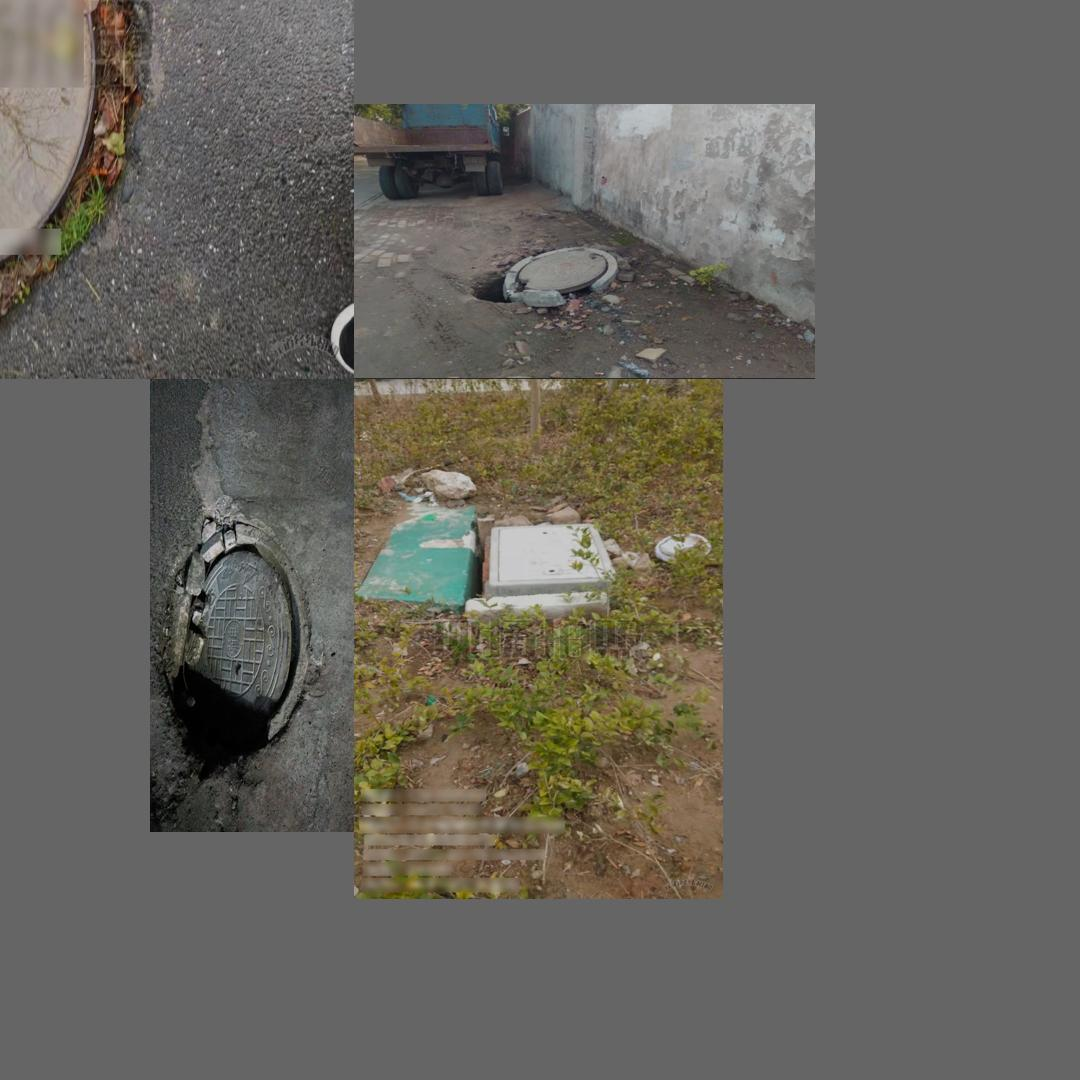circle: (0, 0, 152, 320), (156, 520, 316, 764), (462, 517, 625, 611), (482, 246, 620, 308)
